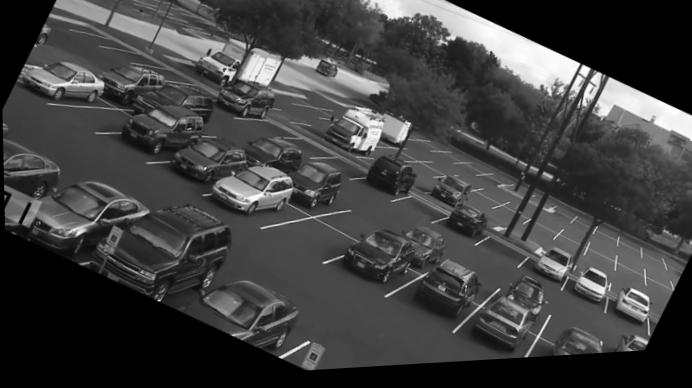empty: (279, 333, 400, 374), (259, 218, 354, 264), (49, 106, 130, 137), (470, 239, 528, 277), (551, 307, 602, 343), (74, 28, 137, 54), (331, 210, 386, 238), (457, 261, 499, 293), (282, 137, 333, 162), (393, 202, 443, 226), (237, 121, 293, 139), (321, 155, 363, 179), (580, 254, 613, 281), (104, 51, 158, 67), (519, 227, 559, 248), (487, 211, 528, 230), (611, 269, 642, 294), (551, 242, 585, 264), (503, 205, 539, 225), (150, 69, 193, 85), (557, 232, 588, 254), (295, 108, 340, 123), (566, 221, 598, 242), (404, 166, 441, 184), (644, 284, 672, 307), (587, 244, 615, 267), (202, 124, 241, 140), (614, 259, 642, 281), (478, 191, 512, 209), (468, 196, 500, 214), (531, 220, 563, 238), (425, 162, 457, 179), (454, 178, 487, 194), (548, 212, 577, 230), (614, 282, 643, 300), (593, 231, 616, 253), (409, 175, 432, 195), (479, 177, 514, 190), (643, 274, 668, 292), (377, 152, 414, 164), (616, 244, 639, 263), (400, 151, 432, 164), (641, 257, 660, 276), (454, 168, 485, 179), (648, 304, 665, 323), (480, 216, 500, 232), (412, 144, 441, 155), (434, 156, 462, 167), (664, 267, 681, 285)
occupied: (76, 206, 229, 303), (4, 181, 151, 251), (171, 278, 311, 350), (207, 167, 292, 224), (404, 264, 480, 324), (119, 106, 202, 158), (466, 297, 536, 358), (336, 232, 411, 287), (163, 139, 244, 187), (20, 62, 104, 104), (2, 138, 57, 194), (322, 113, 383, 159), (358, 159, 416, 206), (214, 78, 274, 123), (242, 139, 308, 178), (100, 66, 163, 106), (143, 85, 212, 121), (289, 166, 341, 213), (403, 230, 444, 275), (547, 331, 604, 363), (443, 209, 487, 244), (611, 294, 649, 333), (429, 182, 470, 214), (531, 255, 570, 288), (571, 275, 605, 310), (509, 283, 542, 315), (616, 342, 646, 360)
